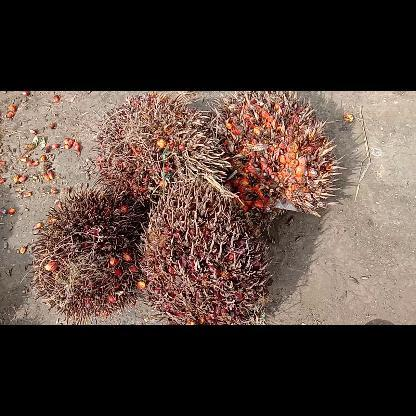Terlalu masak: (136, 178, 272, 324), (31, 186, 147, 324), (219, 91, 345, 217), (92, 90, 230, 200)
